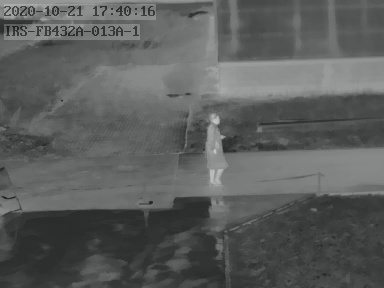person: (203, 112, 226, 188)
